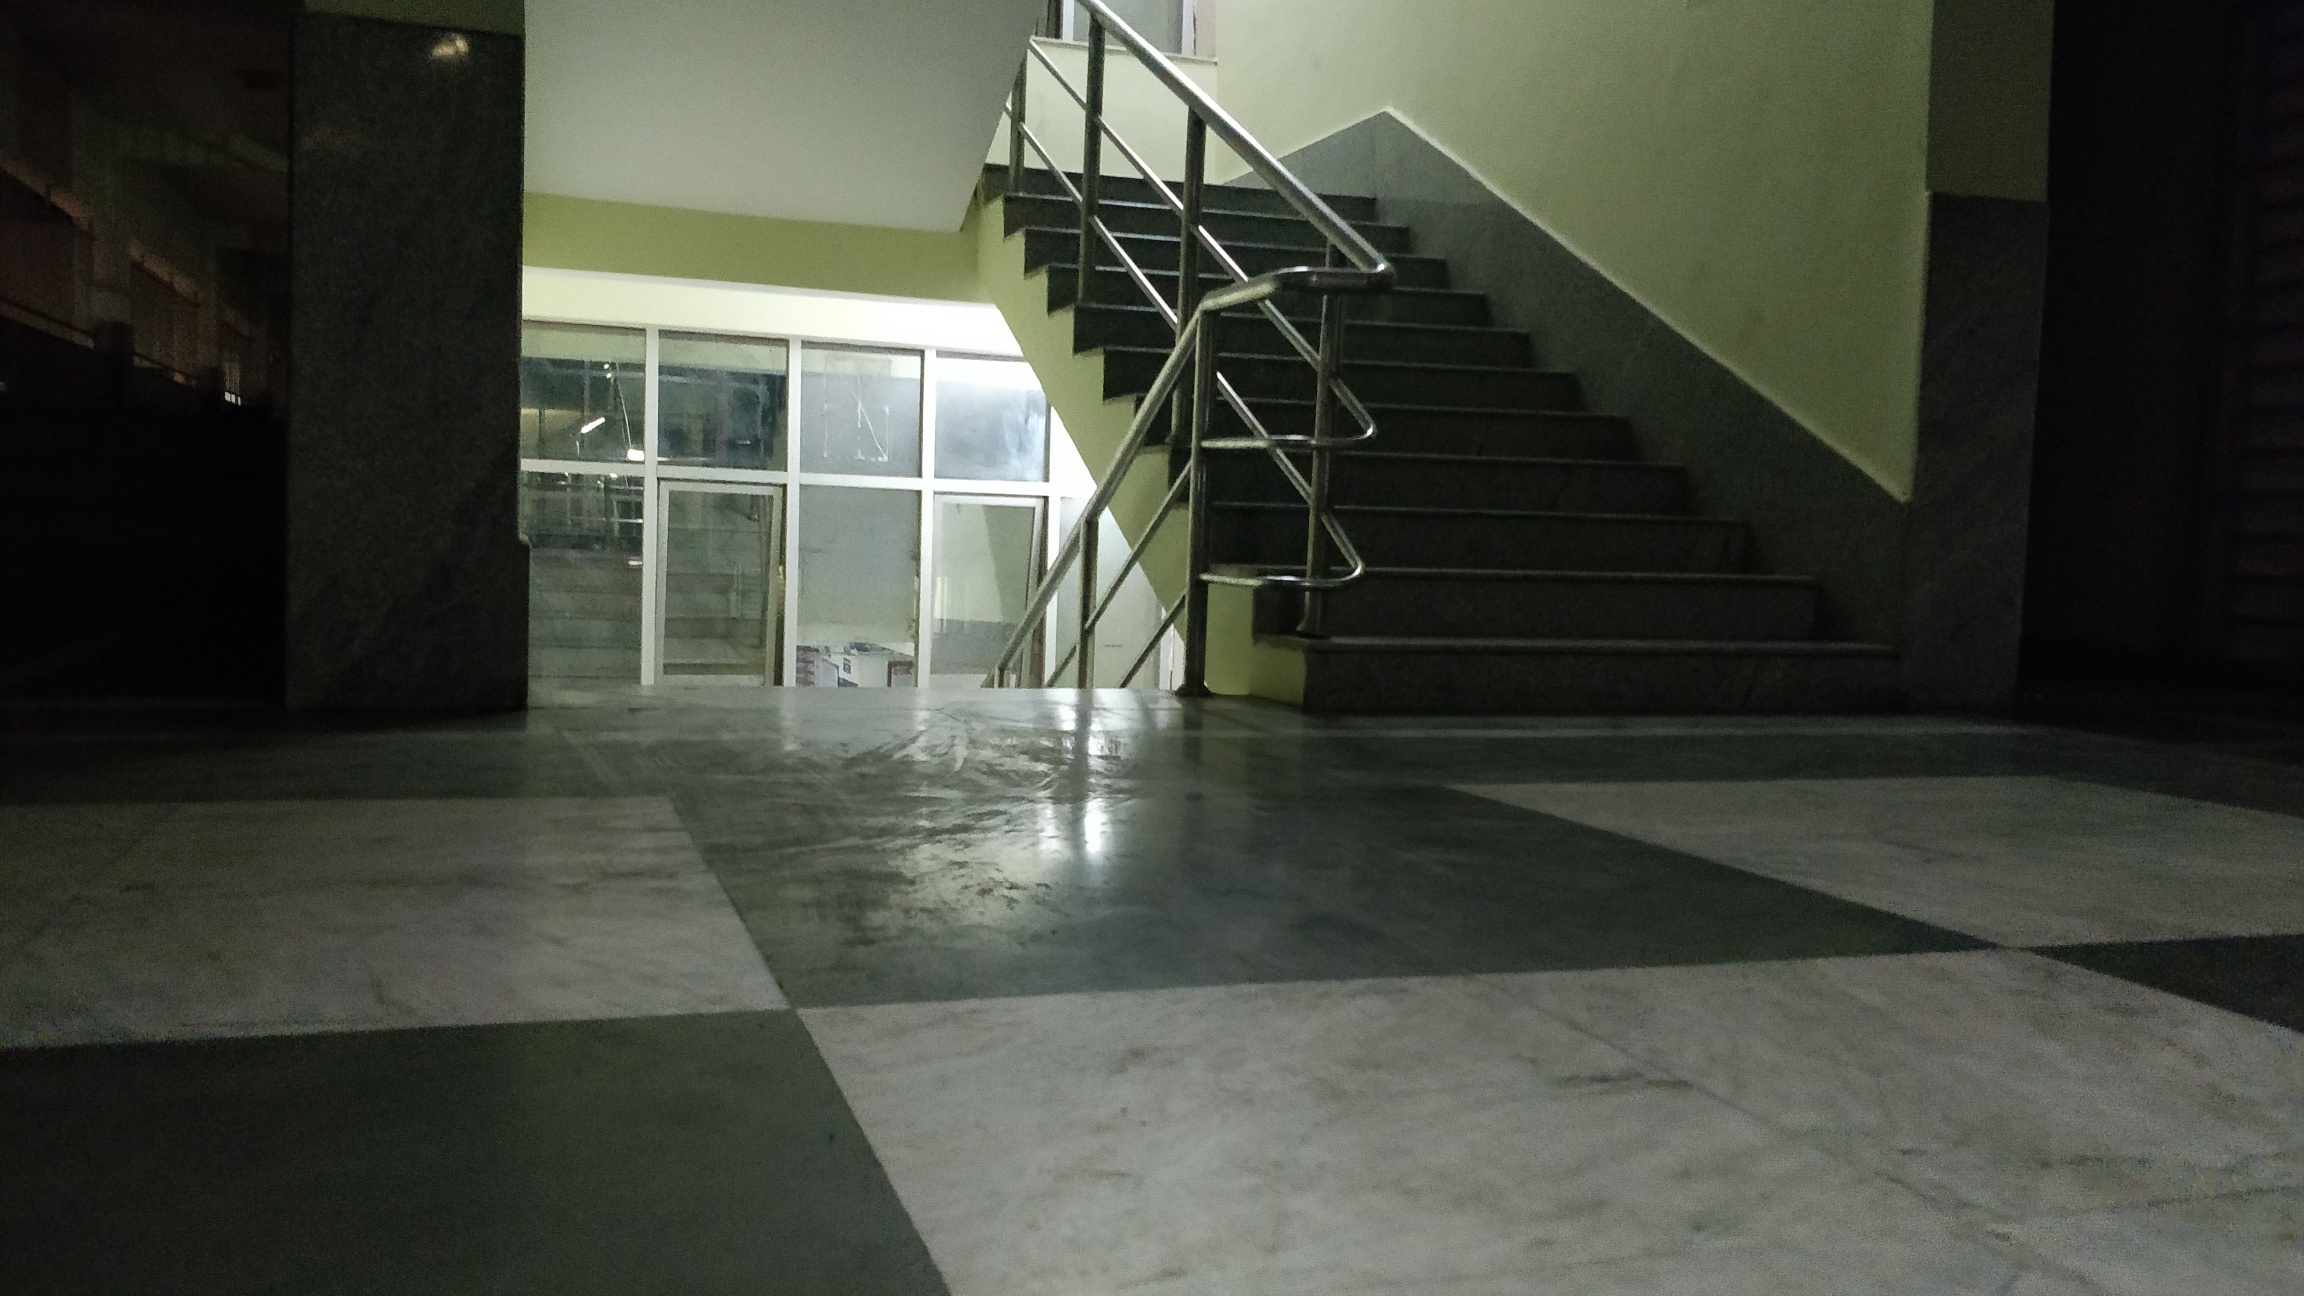stairs_up: (997, 155, 1878, 726)
